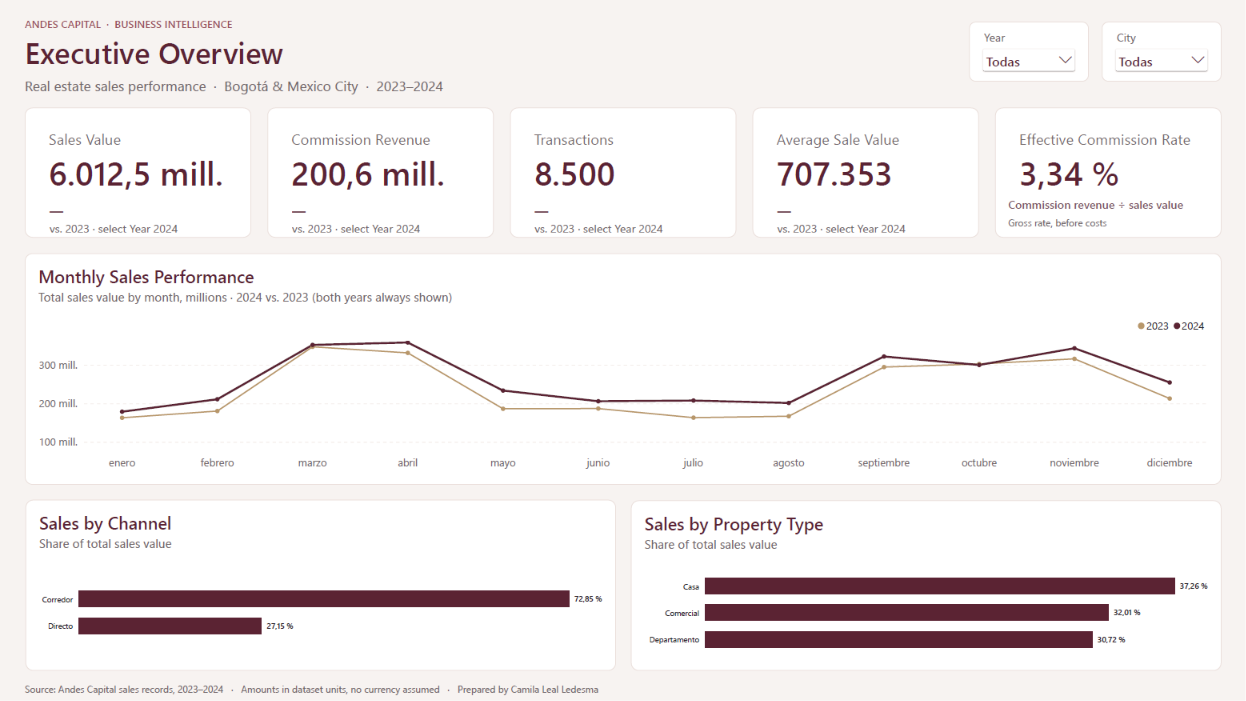

This screenshot's page, from the dashboard's own definition file:
{"tool":"powerbi","page":{"name":"Executive Overview","canvas":[1920,1080],"ordinal":0},"visuals":[{"type":"textbox","box":[40,22,900,28],"z":0},{"type":"textbox","box":[40,50,1100,66],"z":1000},{"type":"textbox","box":[40,118,1100,36],"z":2000},{"type":"slicer","fields":{"Values":["dim_fecha.Año"]},"box":[1492,34,184,92],"z":3000},{"type":"slicer","fields":{"Values":["dim_properties.ciudad"]},"box":[1696,34,184,92],"z":4000},{"type":"cardVisual","fields":{"Data":["_Measures.Total Sales Value"]},"box":[40,166,348,200],"z":5000},{"type":"cardVisual","fields":{"Data":["_Measures.Commission Revenue"]},"box":[413,166,348,200],"z":6000},{"type":"cardVisual","fields":{"Data":["_Measures.Total Transactions"]},"box":[786,166,348,200],"z":7000},{"type":"cardVisual","fields":{"Data":["_Measures.Average Sale Value"]},"box":[1159,166,348,200],"z":8000},{"type":"cardVisual","fields":{"Data":["_Measures.Effective Commission Rate %"]},"box":[1532,166,348,200],"z":9000},{"type":"cardVisual","fields":{"Data":["_Measures.Sales YoY Display"]},"box":[58,294,312,64],"z":10000},{"type":"cardVisual","fields":{"Data":["_Measures.Commission YoY Display"]},"box":[431,294,312,64],"z":11000},{"type":"cardVisual","fields":{"Data":["_Measures.Transactions YoY Display"]},"box":[804,294,312,64],"z":12000},{"type":"cardVisual","fields":{"Data":["_Measures.Average Sale Value YoY Display"]},"box":[1177,294,312,64],"z":13000},{"type":"textbox","box":[1552,300,308,58],"z":14000},{"type":"lineChart","title":"Monthly Sales Performance","fields":{"Category":["dim_fecha.Mes"],"Series":["dim_fecha.Año"],"Y":["_Measures.Total Sales Value"]},"box":[40,390,1840,356],"z":15000},{"type":"clusteredBarChart","title":"Sales by Channel","fields":{"Category":["fact_sales.canal_venta"],"Y":["_Measures.Sales Share by Channel %"]},"box":[40.9,769.2,907.8,262.9],"z":16000},{"type":"clusteredBarChart","title":"Sales by Property Type","fields":{"Category":["dim_properties.tipo_propiedad"],"Y":["_Measures.Sales Share by Property Type %"]},"box":[972,770,908,262],"z":17000},{"type":"textbox","box":[40,1044,1840,30],"z":18000}]}

Visuals, with their boxes in screenshot pixels (x1, y1, x2, y2), scaled from the page's 1920x1080 canvas onto the 1246x701 screenshot:
textbox: select_region(26, 14, 610, 32)
textbox: select_region(26, 32, 740, 75)
textbox: select_region(26, 77, 740, 100)
slicer - dim_fecha.Año: select_region(968, 22, 1088, 82)
slicer - dim_properties.ciudad: select_region(1101, 22, 1220, 82)
cardVisual - _Measures.Total Sales Value: select_region(26, 108, 252, 238)
cardVisual - _Measures.Commission Revenue: select_region(268, 108, 494, 238)
cardVisual - _Measures.Total Transactions: select_region(510, 108, 736, 238)
cardVisual - _Measures.Average Sale Value: select_region(752, 108, 978, 238)
cardVisual - _Measures.Effective Commission Rate %: select_region(994, 108, 1220, 238)
cardVisual - _Measures.Sales YoY Display: select_region(38, 191, 240, 232)
cardVisual - _Measures.Commission YoY Display: select_region(280, 191, 482, 232)
cardVisual - _Measures.Transactions YoY Display: select_region(522, 191, 724, 232)
cardVisual - _Measures.Average Sale Value YoY Display: select_region(764, 191, 966, 232)
textbox: select_region(1007, 195, 1207, 232)
"Monthly Sales Performance" lineChart: select_region(26, 253, 1220, 484)
"Sales by Channel" clusteredBarChart: select_region(27, 499, 616, 670)
"Sales by Property Type" clusteredBarChart: select_region(631, 500, 1220, 670)
textbox: select_region(26, 678, 1220, 697)
